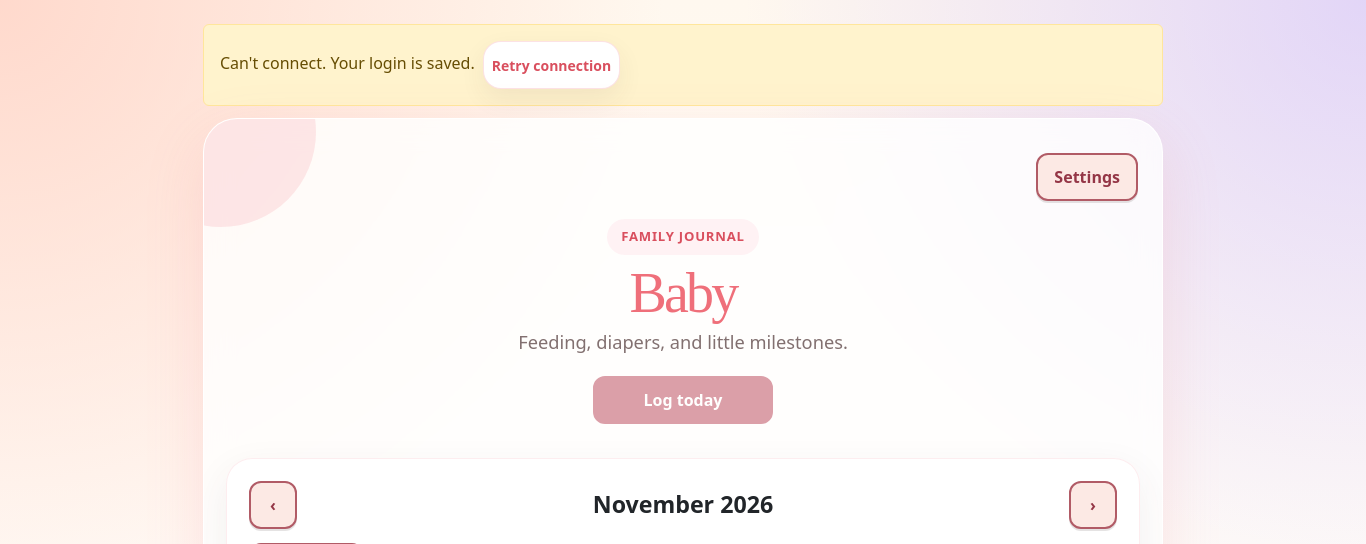
it: network failures preserve login and Retry reconnects
expect the text "Can't connect. Your login is saved. Retry connection" is shown: met, box left=203, top=24, right=1163, bottom=106
expect the button "Log today" is shown: met, box left=593, top=376, right=773, bottom=424
Click the button "Retry connection": (551, 65) left=483, top=41, right=620, bottom=89
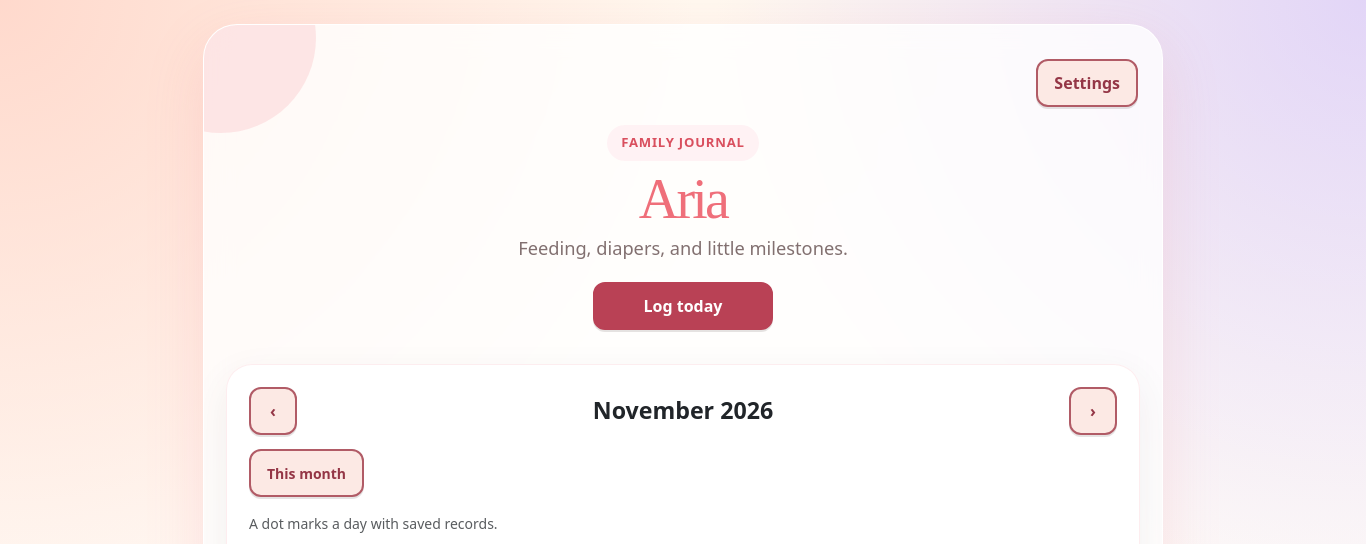
expect the text "Your login is saved" is gone: met
